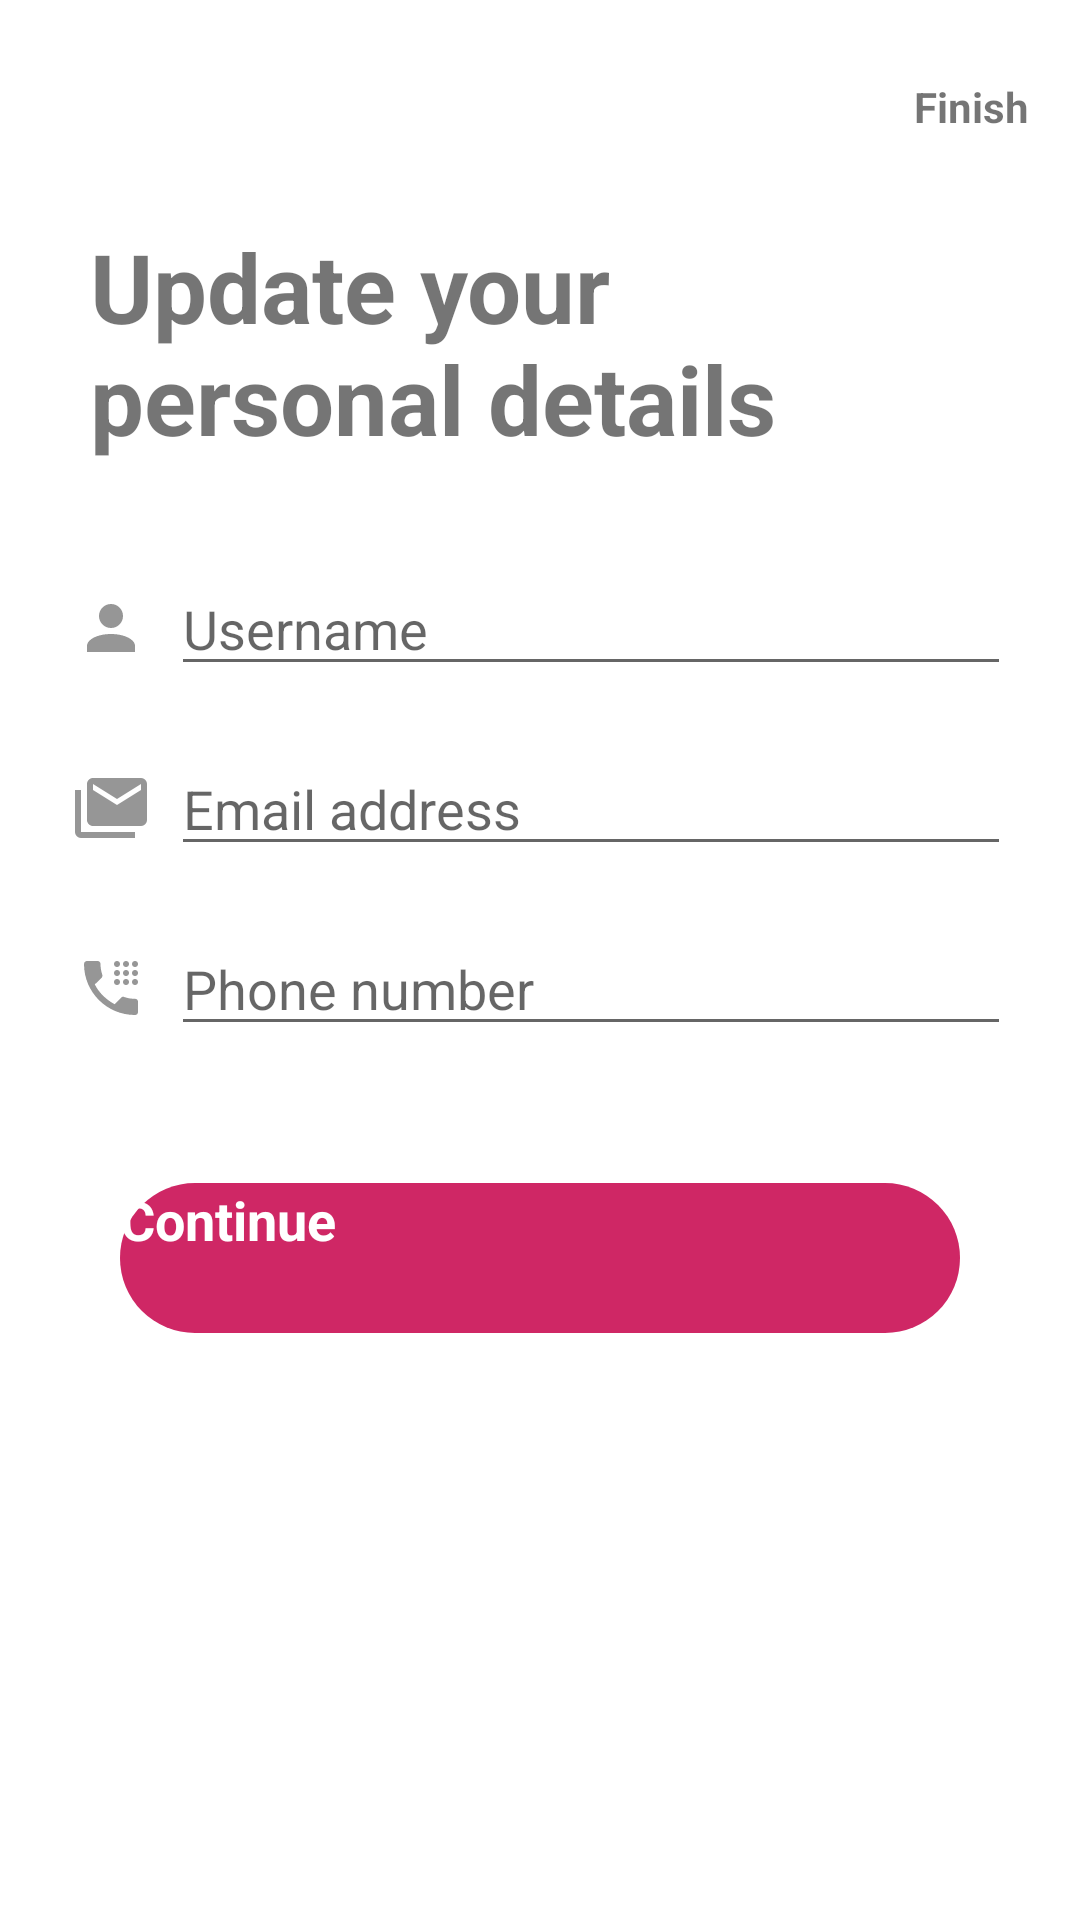

Named icons in this screenshot (1080*1920) and their centers, (x=x, y=y):
account: (x=111, y=628)
email multiple: (x=111, y=808)
phone dial: (x=111, y=988)
